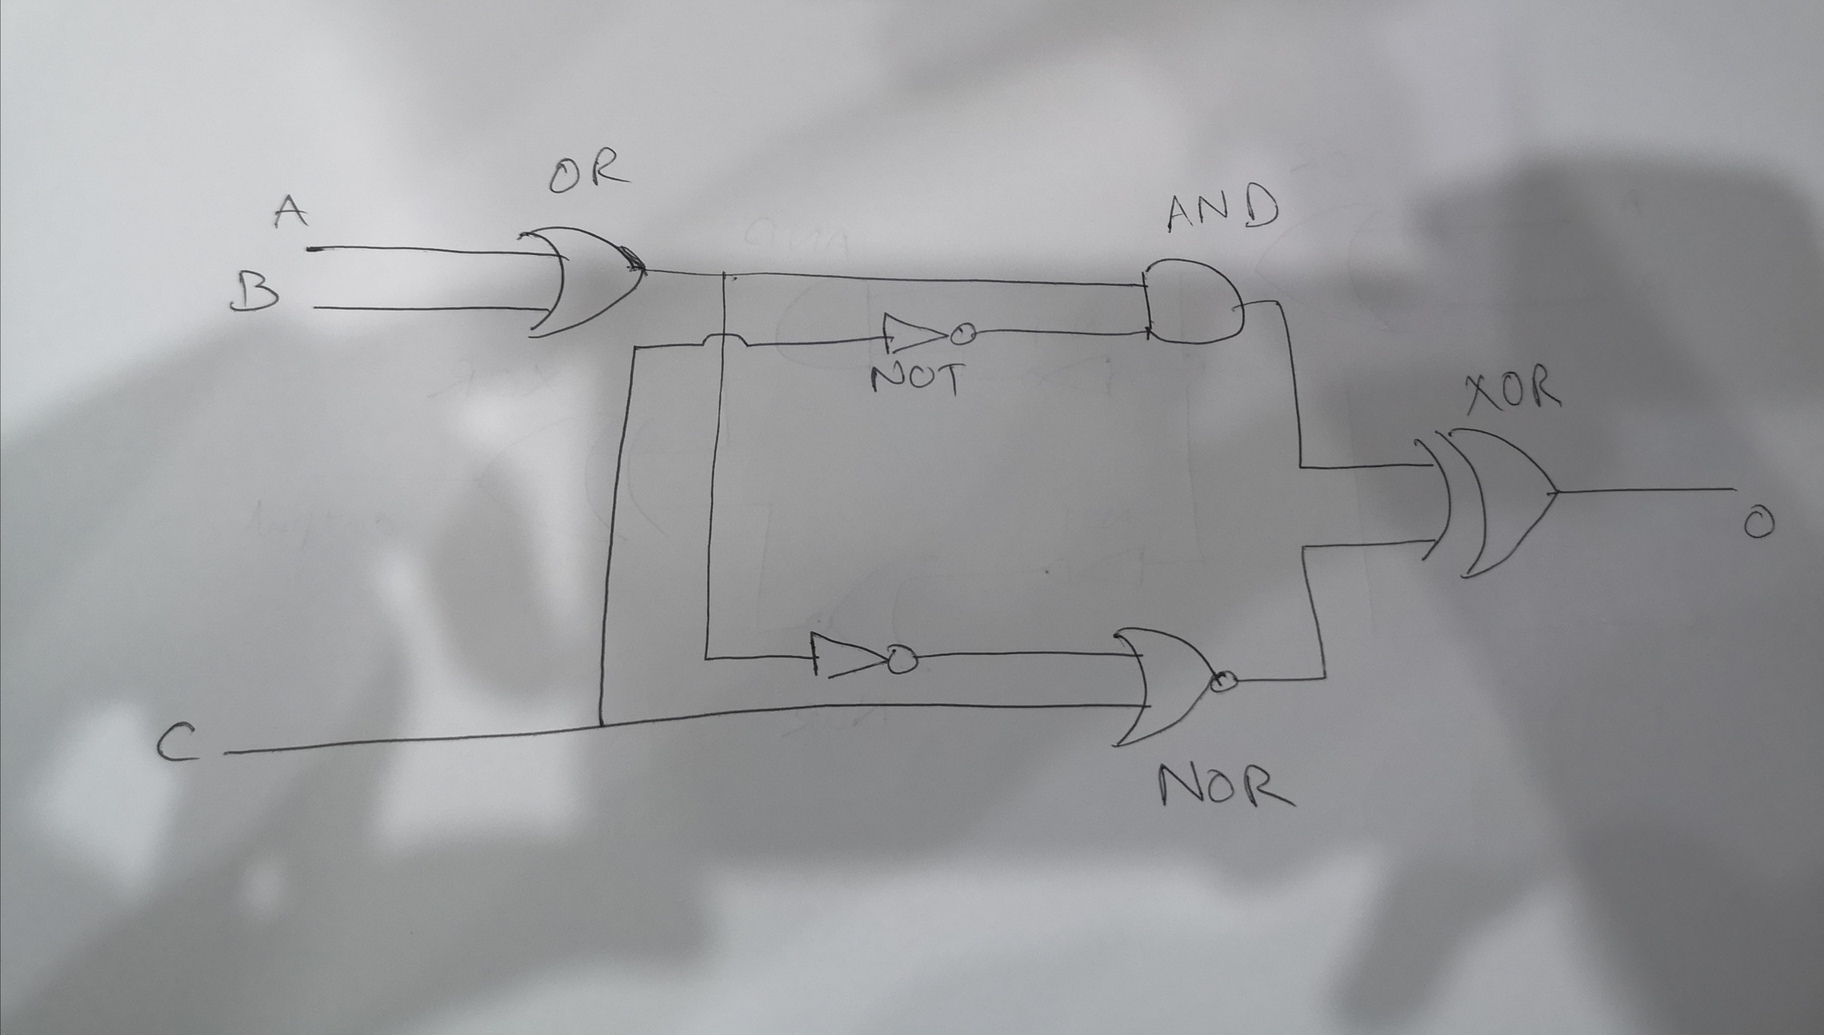and: (1137, 256, 1253, 350)
crossover: (700, 326, 754, 355)
junction: (1310, 662, 1338, 690), (1292, 538, 1317, 561), (1267, 289, 1290, 315), (625, 338, 646, 360), (589, 714, 610, 734), (1292, 459, 1309, 476), (698, 650, 714, 667), (717, 267, 732, 282)
nor: (1102, 623, 1246, 753)
not: (806, 627, 925, 685), (878, 307, 983, 358)
or: (514, 216, 651, 342)
terminal: (213, 738, 237, 764), (1723, 477, 1746, 499), (299, 236, 319, 261), (306, 298, 324, 316)
text: (1156, 757, 1298, 817), (1163, 182, 1285, 237), (1463, 365, 1568, 415), (542, 147, 631, 195), (867, 358, 968, 398), (228, 259, 286, 315), (152, 717, 209, 768), (268, 190, 313, 239), (1740, 501, 1780, 543)
xor: (1408, 421, 1565, 585)
